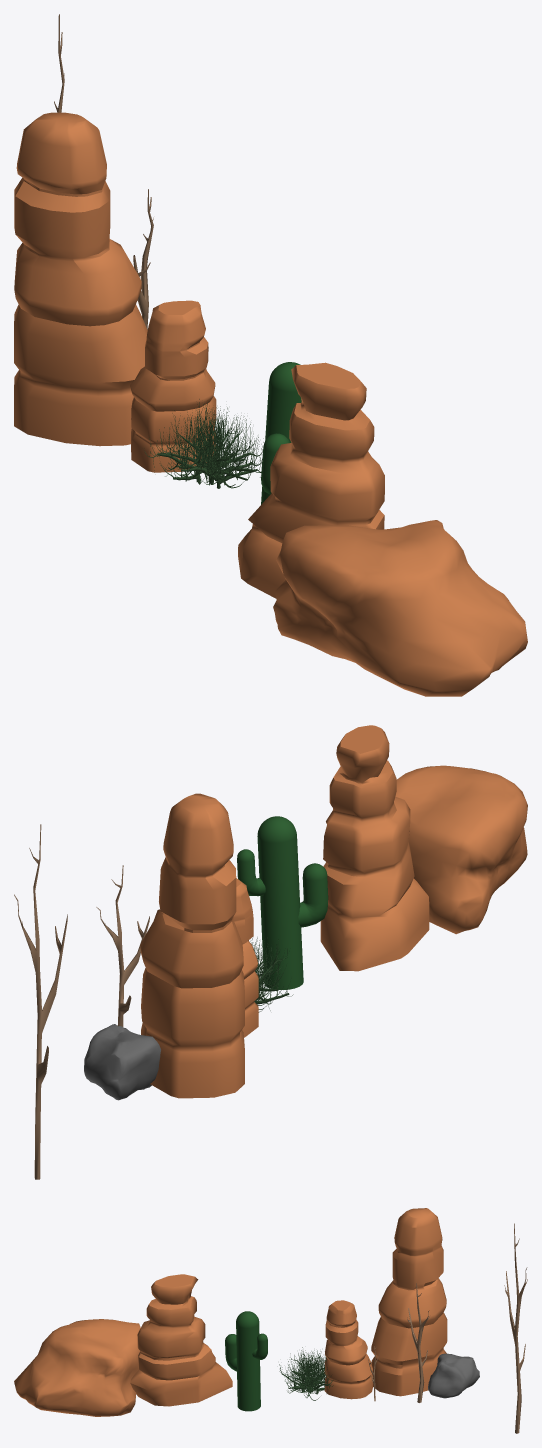
Rendered from EnvWest_01.fbx.
The picture shows the model from 3 angles, top to bottom: view 1: azimuth 30°, elevation 25°; view 2: azimuth 150°, elevation 25°; view 3: azimuth 270°, elevation 25°; orthographic projection. The views are drawn at different scales.
Parts seen in each view (by area): view 1: pCube26; view 2: pCube26; view 3: pCube26.
Part boxes in pixels (x1=…): pCube26: x1=14, y1=14, x2=527, y2=696; pCube26: x1=14, y1=725, x2=527, y2=1179; pCube26: x1=14, y1=1208, x2=527, y2=1433.
Size of the model in its own units: 203 by 429 by 956.
